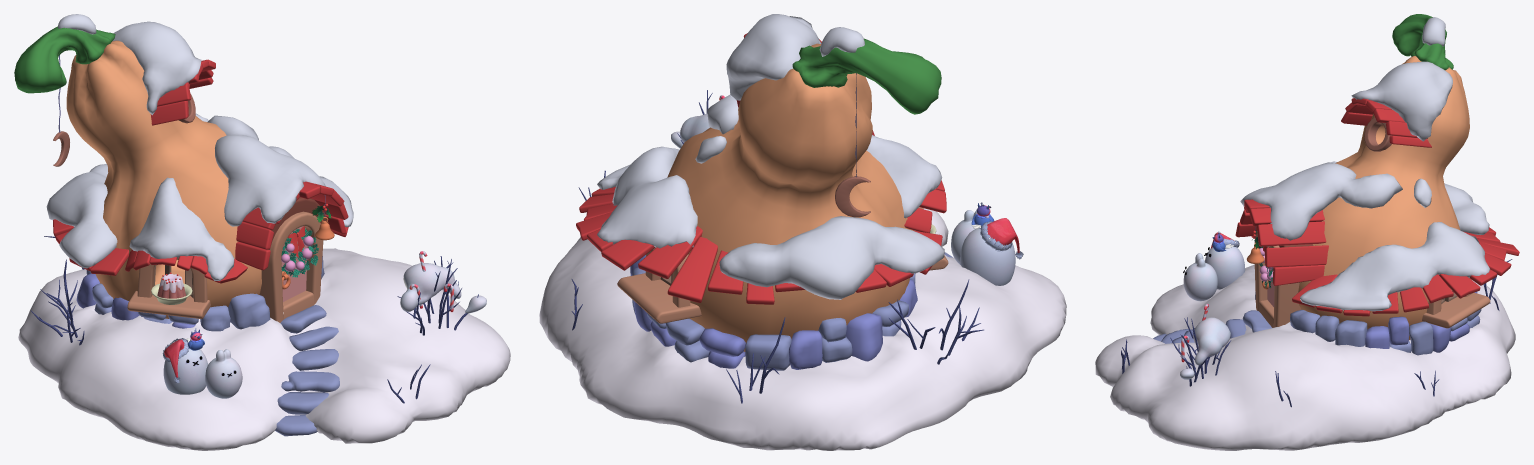
Rendered from building-snowfall-space.glb.
3 renders of one model, left to right at view 1: azimuth 30°, elevation 25°; view 2: azimuth 150°, elevation 25°; view 3: azimuth 270°, elevation 25°, orthographic. The views are drawn at different scales.
Visible parts, largest first — view 1: Ground_L, Snow_L_Base_0, pumpkin_L, StonesA_L, Tail_L, StonesB_L, Dver_Details_0.001, snowman, Zai2, Zai1_Details_0, casement window6, StonesC_L (+9 smaller); view 2: Ground_L, pumpkin_L, Snow_L_Base_0, Tail_L, StonesC_L, StonesA_L, casement window011, Zai2, Krysha109, StonesB_L, Krysha108, Krysha107 (+8 smaller); view 3: Ground_L, Snow_L_Base_0, pumpkin_L, StonesA_L, Tail_L, StonesB_L, snowman, Dver_Details_0.001, Krysha6, casement window011, Zai1_Details_0, Zai2 (+9 smaller).
Boxes of the visible parts, x1,y1,x2,y2 form: Ground_L: [18, 248, 510, 450]; Snow_L_Base_0: [46, 14, 353, 280]; pumpkin_L: [66, 40, 261, 318]; StonesA_L: [86, 263, 339, 436]; Tail_L: [14, 26, 115, 93]; StonesB_L: [94, 256, 338, 414]; Dver_Details_0.001: [259, 211, 323, 322]; snowman: [400, 263, 486, 313]; Zai2: [163, 348, 207, 394]; Zai1_Details_0: [205, 349, 242, 398]; casement window6: [127, 285, 210, 318]; StonesC_L: [76, 273, 195, 328]; Ground_L: [539, 208, 1066, 450]; pumpkin_L: [667, 43, 914, 351]; Snow_L_Base_0: [597, 14, 944, 299]; Tail_L: [792, 38, 941, 114]; StonesC_L: [633, 279, 917, 369]; StonesA_L: [632, 252, 952, 370]; casement window011: [617, 273, 701, 323]; Zai2: [960, 228, 1015, 285]; Krysha109: [667, 237, 717, 302]; StonesB_L: [647, 273, 915, 362]; Krysha108: [638, 226, 702, 278]; Krysha107: [601, 239, 654, 270]; Ground_L: [1095, 264, 1515, 450]; Snow_L_Base_0: [1240, 17, 1490, 311]; pumpkin_L: [1298, 56, 1469, 340]; StonesA_L: [1153, 292, 1481, 355]; Tail_L: [1392, 14, 1453, 70]; StonesB_L: [1161, 310, 1480, 352]; snowman: [1180, 317, 1230, 379]; Dver_Details_0.001: [1254, 233, 1301, 327]; Krysha6: [1264, 245, 1328, 267]; casement window011: [1422, 289, 1490, 328]; Zai1_Details_0: [1183, 253, 1217, 301]; Zai2: [1205, 246, 1245, 289].
Bounding box in the file's own units: 12.14 × 10.86 × 12.76.
25 materials, 2 textured.
